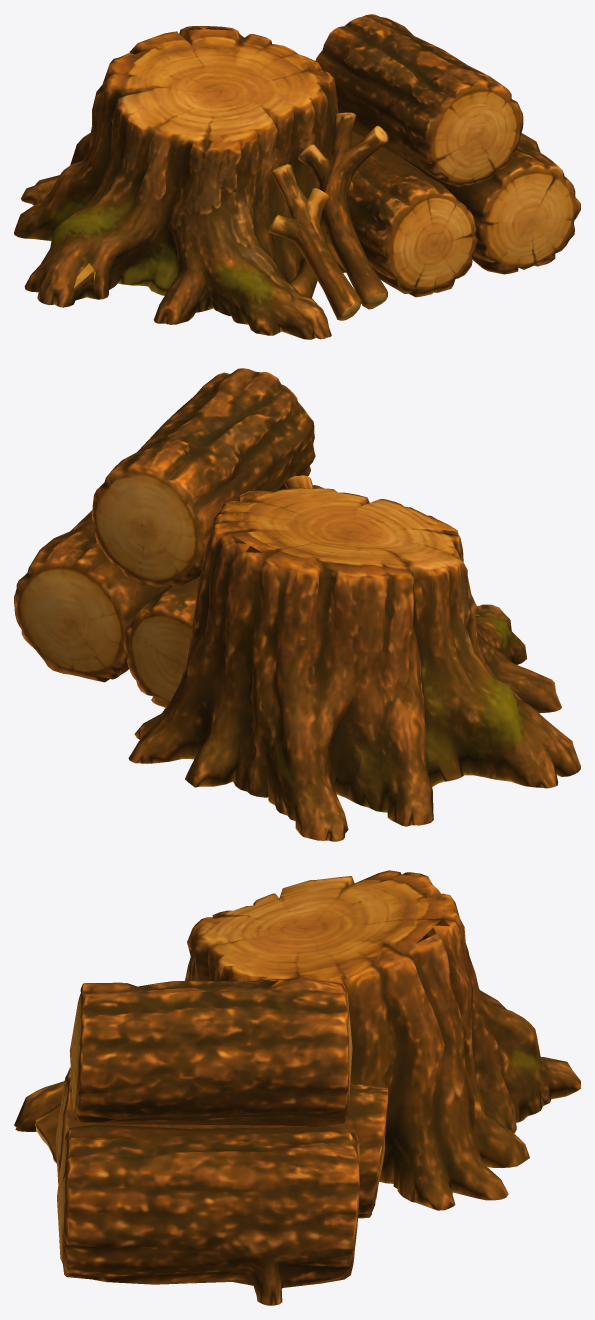
The model's file is timber.glb.
3 renders of one model, top to bottom at view 1: azimuth 30°, elevation 25°; view 2: azimuth 150°, elevation 25°; view 3: azimuth 270°, elevation 25°, orthographic. The views are drawn at different scales.
Parts seen in each view (by area): view 1: geometry_0; view 2: geometry_0; view 3: geometry_0.
Boxes of the visible parts, left/top/right/bottom form: geometry_0: left=14, top=14, right=580, bottom=339; geometry_0: left=14, top=368, right=580, bottom=841; geometry_0: left=14, top=870, right=580, bottom=1305.
Size of the model in its own units: 0.957 by 0.3877 by 0.7939.
Materials: 1 (1 with a texture image).
